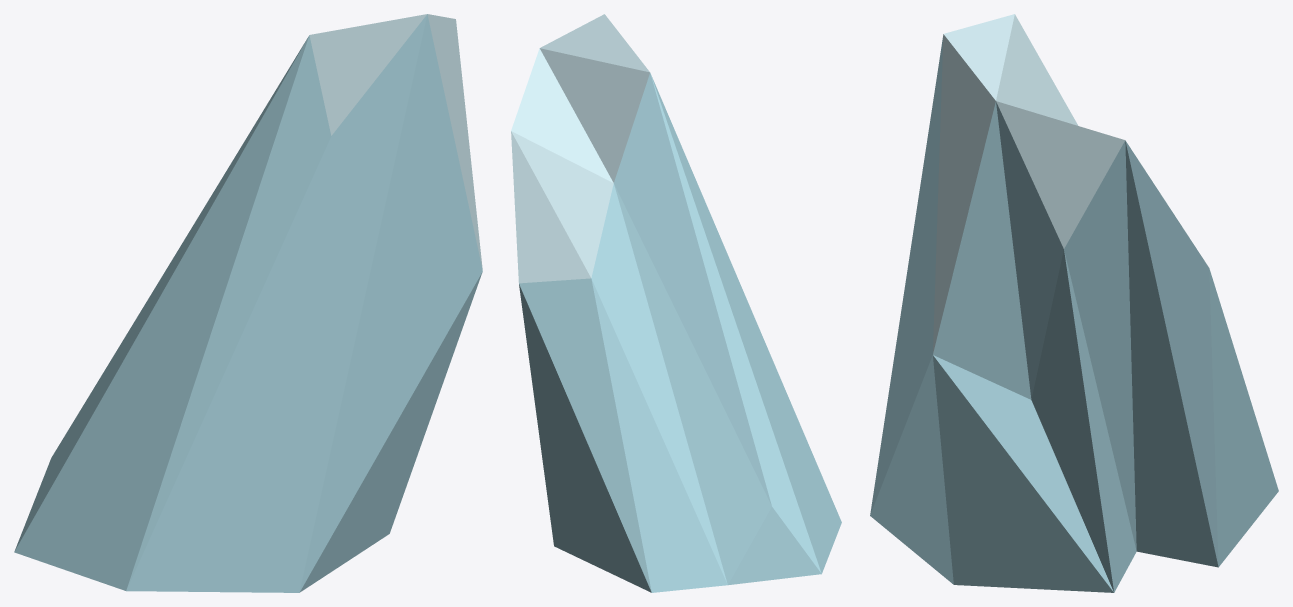
The model's file is sharp_rock_5.fbx.
3 views of the same model, side by side, from view 1: azimuth 30°, elevation 25°; view 2: azimuth 150°, elevation 25°; view 3: azimuth 270°, elevation 25° (orthographic). The views are drawn at different scales.
Visible parts, largest first — view 1: sharp_rock_5; view 2: sharp_rock_5; view 3: sharp_rock_5.
Boxes of the visible parts, x1=… form: sharp_rock_5: x1=14, y1=14, x2=482, y2=592; sharp_rock_5: x1=511, y1=14, x2=841, y2=592; sharp_rock_5: x1=870, y1=14, x2=1278, y2=592.
Bounding box in the file's own units: 320 × 408 × 266.
